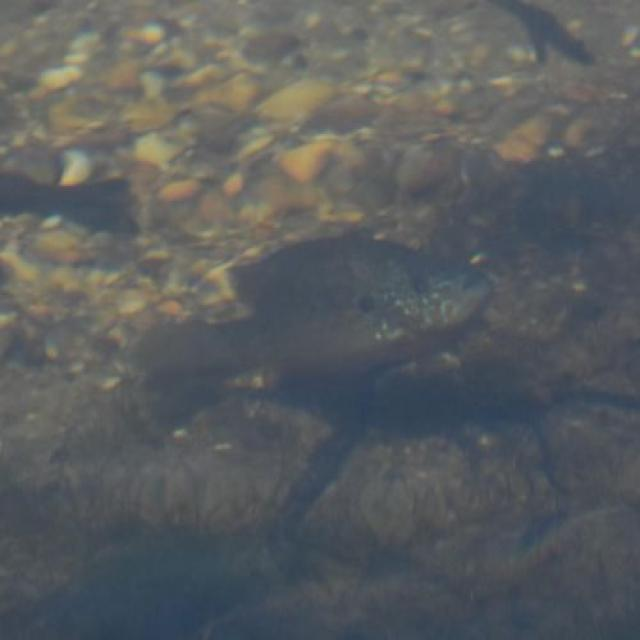Gunes Levregi: (136, 235, 502, 392)
